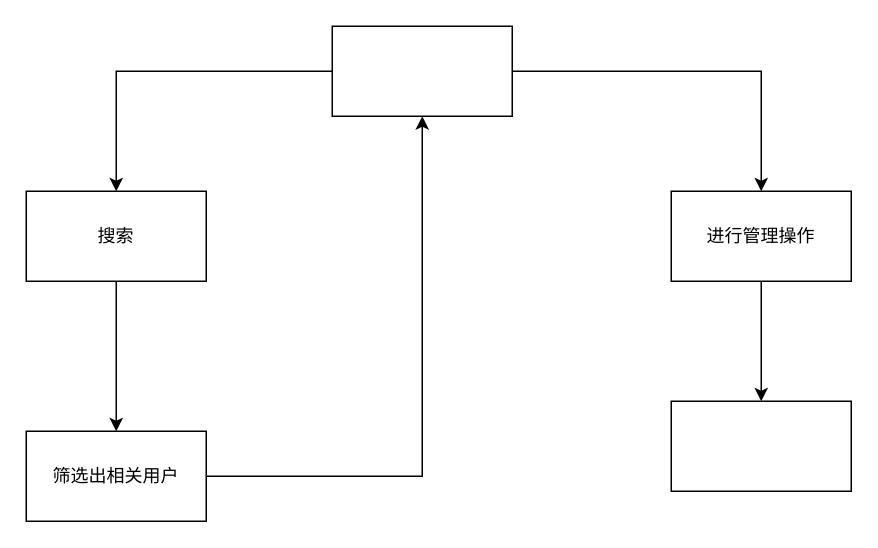
Image size: 878x548. Some labels were removed from this diagram. Each missing label, with the box of its shape:
操作成功: (670, 400, 851, 491)
管理用户页面: (331, 25, 512, 116)
